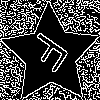F: (25, 29, 78, 80)
